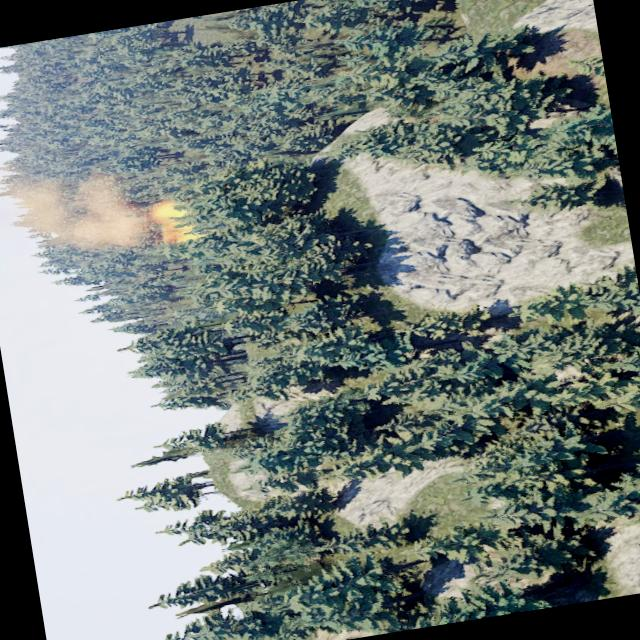fire: (149, 197, 205, 247)
smoke: (0, 153, 155, 269)
